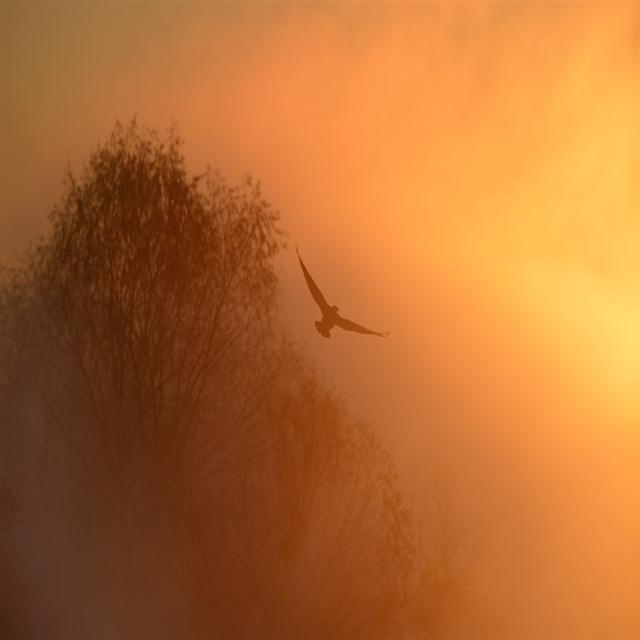bird: (291, 246, 393, 352)
